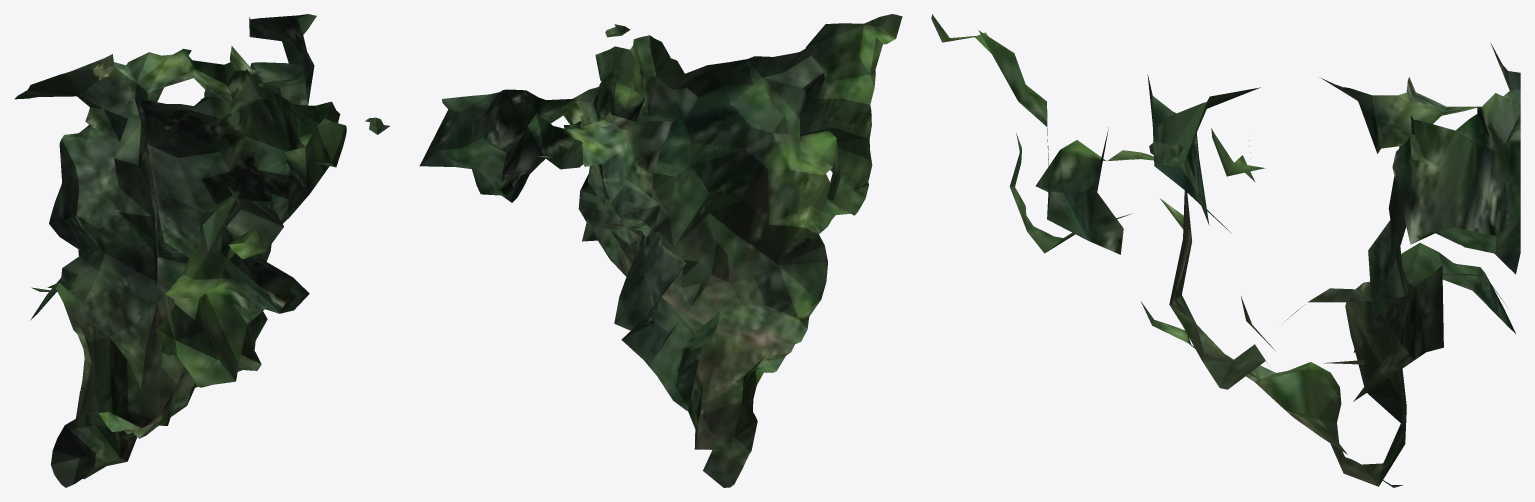
3 renders of one model, left to right at view 1: azimuth 30°, elevation 25°; view 2: azimuth 150°, elevation 25°; view 3: azimuth 270°, elevation 25°, orthographic. The views are drawn at different scales.
Bounding box in the file's own units: 10.1 × 12.34 × 13.99.
1 material, 1 textured.
